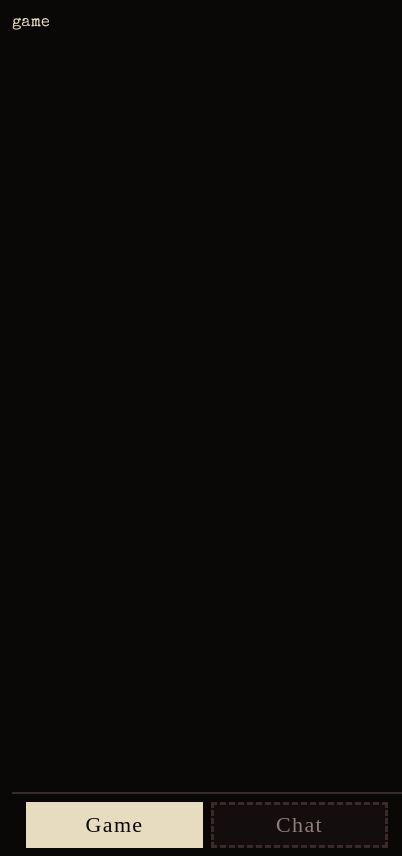
Scenario: SplitLayout › starts on the main pane and switches panes from the tabs
Click the tab "Chat". click: click(300, 825)
box: [211, 802, 388, 848]
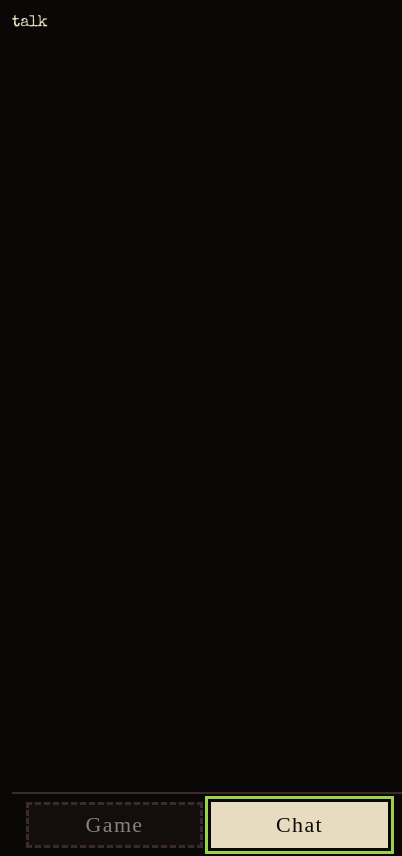
Result: the element with class "split" has attribute data-pane="chat"
Result: the tab "Chat" is selected at [211, 802, 388, 848]
